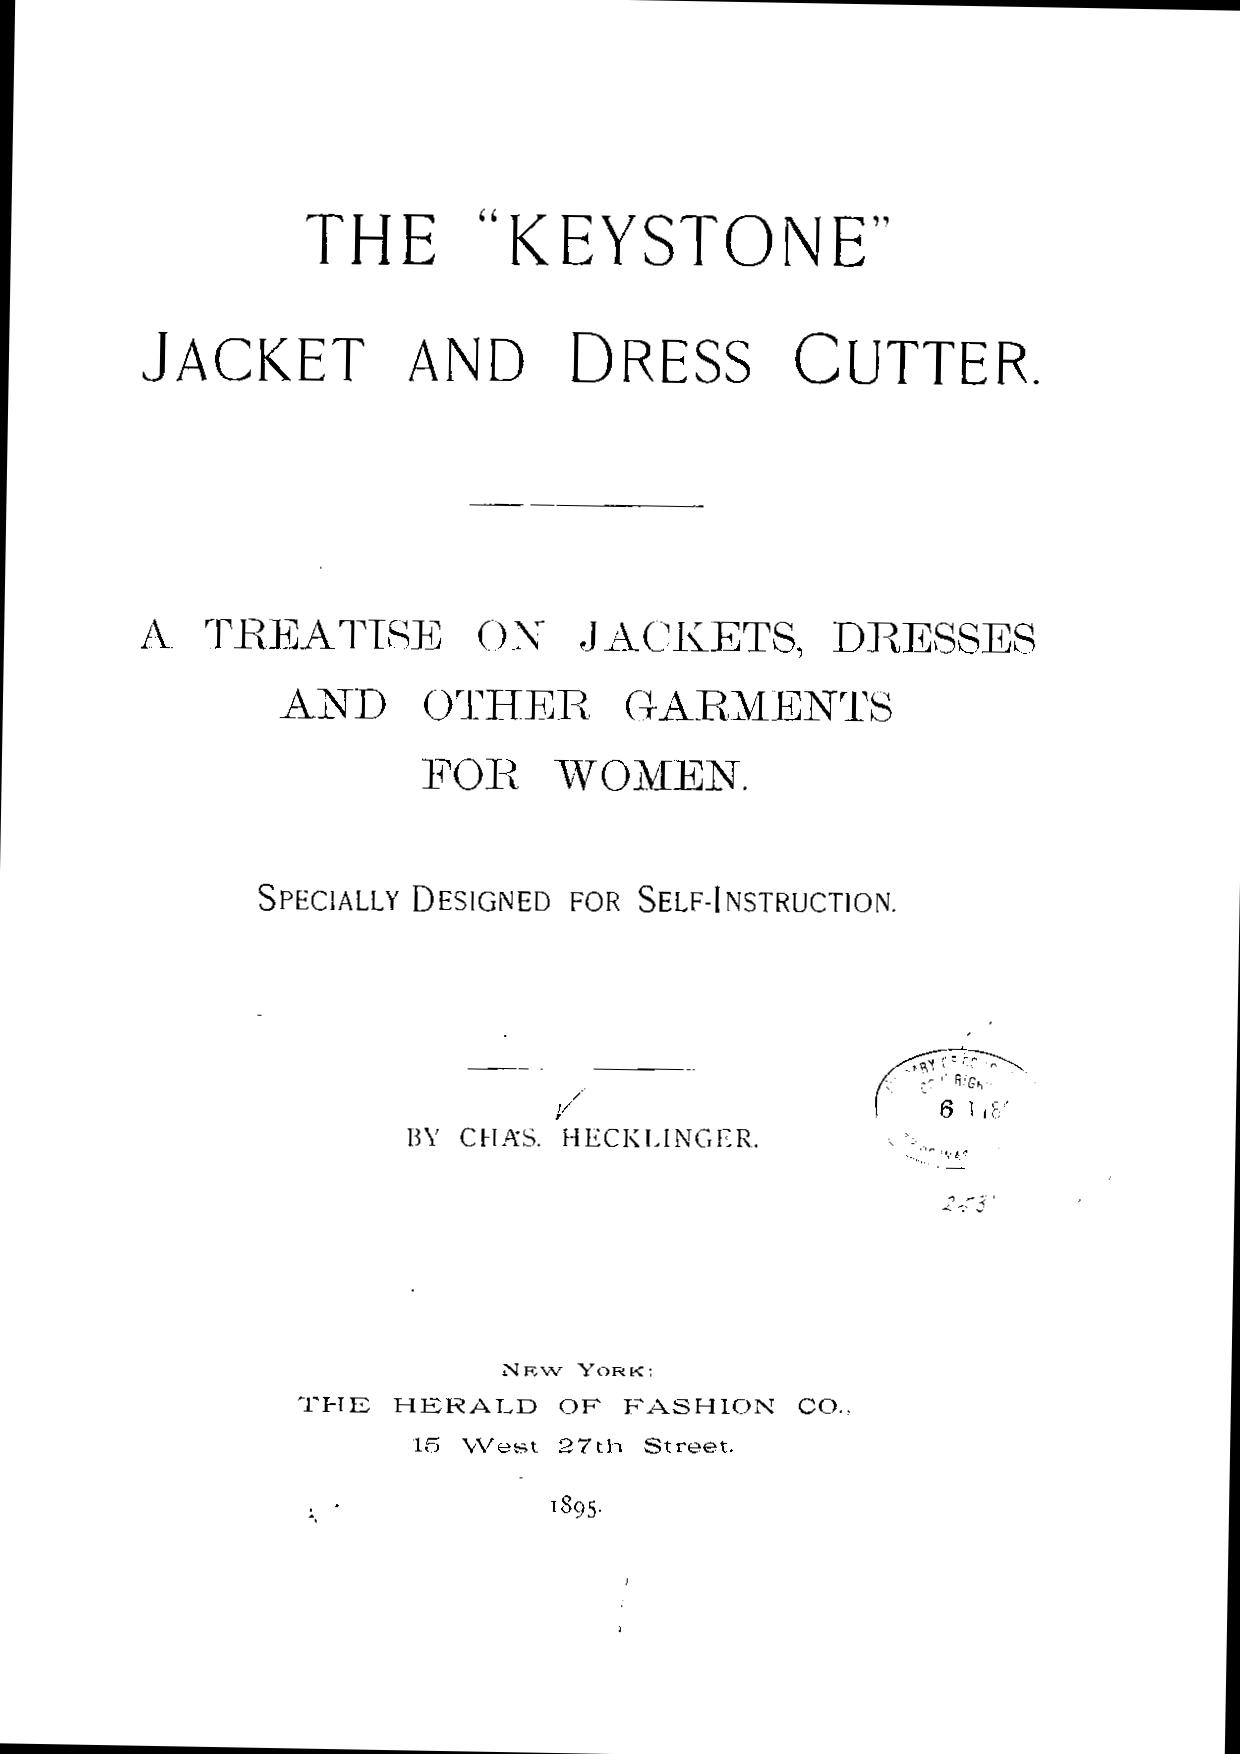author: (399, 1122, 756, 1150)
title: (136, 207, 1040, 386)
